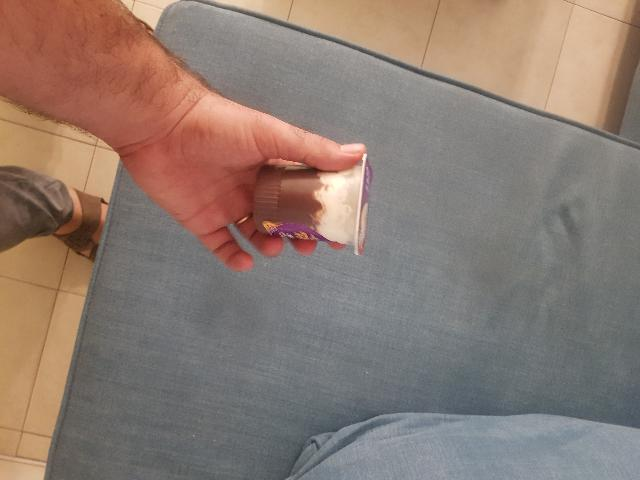milky: (310, 253, 411, 403)
